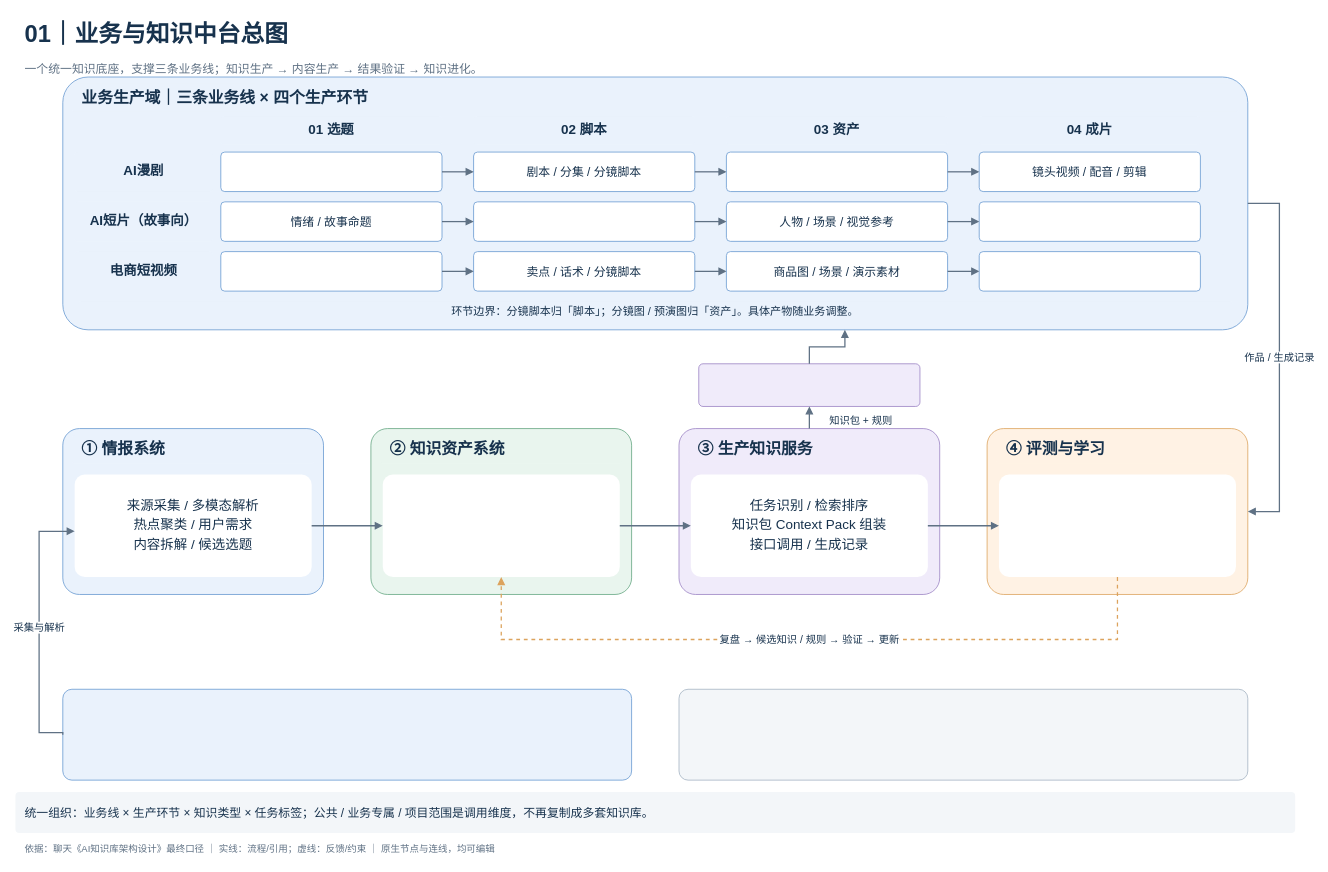
Some shapes in this 1328 by 872 pixel diagram are drawn without their labels. Here are the shapes that lost their labels. From the top down, the box of each, then its label:
(220, 151, 442, 192): 题材 / 人群 / 爽点
(726, 151, 948, 192): 角色图 / 场景图 / 分镜图
(473, 201, 695, 241): 故事剧本 / 分镜脚本
(978, 201, 1200, 241): 叙事节奏 / 声画 / 成片
(220, 251, 442, 291): 商品 / 人群 / 痛点
(978, 251, 1200, 291): 商品呈现 / 字幕 / 转化引导
(698, 363, 920, 406): 生产工具 / Agent 接入 生成 / 决策 / 质检
(382, 474, 619, 577): 事实情报 / 内容原子 方法规则 / 案例经验 / 项目知识 来源证据 / 关联 / 版本
(999, 474, 1236, 577): 分环节评价 / 发布前预测 实绩对账 / 偏差复盘 知识与评价标准升级
(62, 688, 632, 780): 输入来源 外部：热点 / 榜单 / 评论 / 竞品 / 小说 / 商品 内部：历史作品 / Prompt / 项目素材 / 人工修改
(678, 688, 1248, 780): 产品边界 Web：管理、审核、配置、复盘；生产工具：调用与创作 知识库提供上下文与评价标准，连接各业务生产器。
